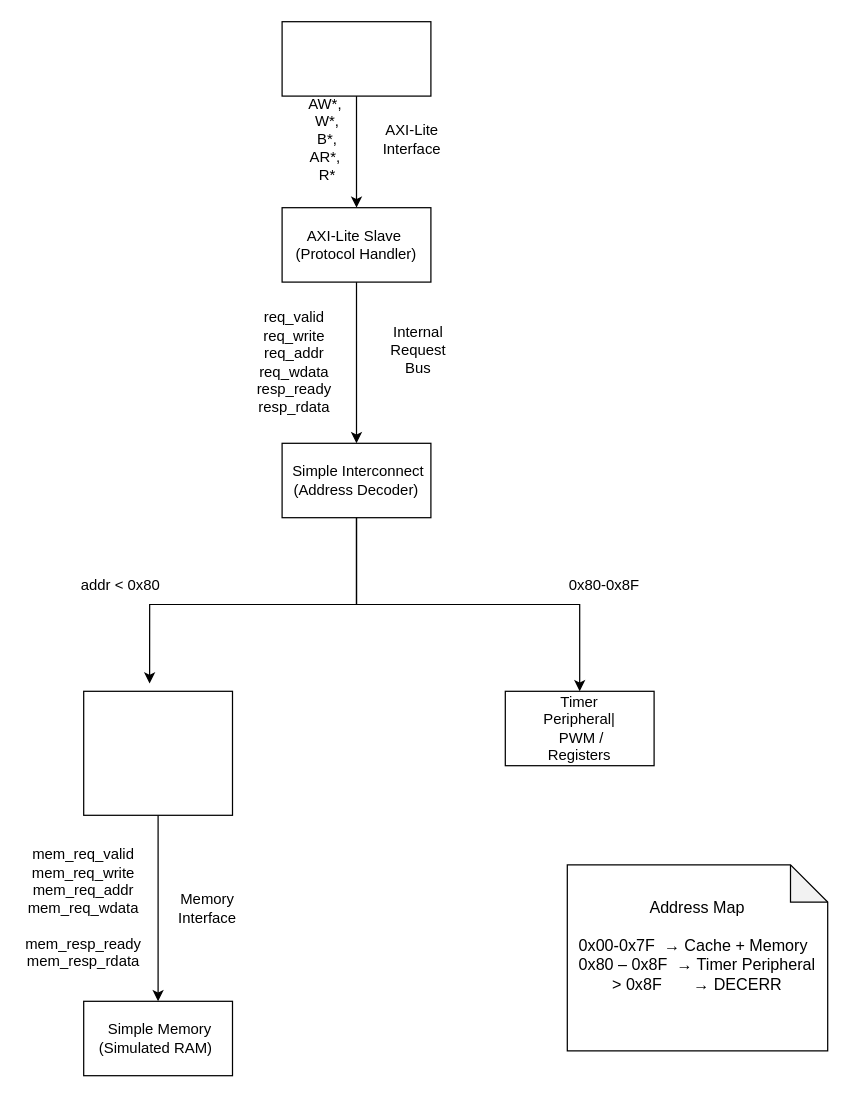
The diagram is 849 pixels wide and 1097 high, and some of its shapes have lost their labels. Each missing label, with the centre of its shape:
"AXI Master Testbench/CPU" goes at point 356,58.
"Cache Controller (Write-back Direct - Mapped)" goes at point 157,752.
